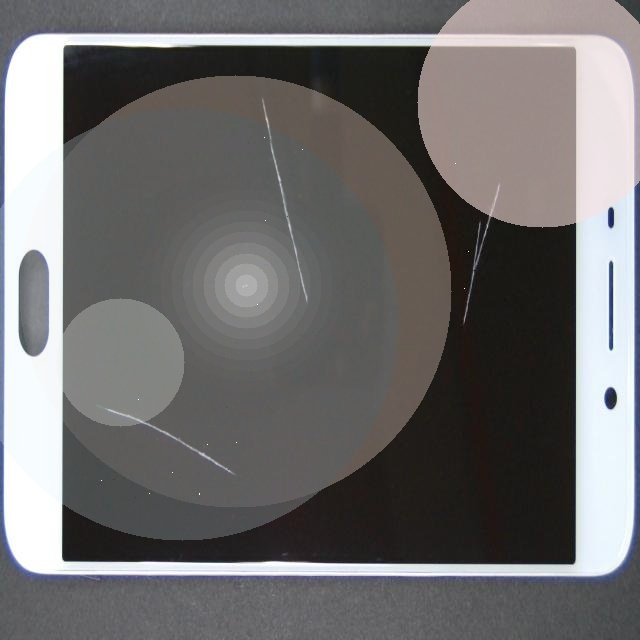scratch: (277, 36, 640, 285), (113, 253, 342, 640), (121, 20, 374, 146)
